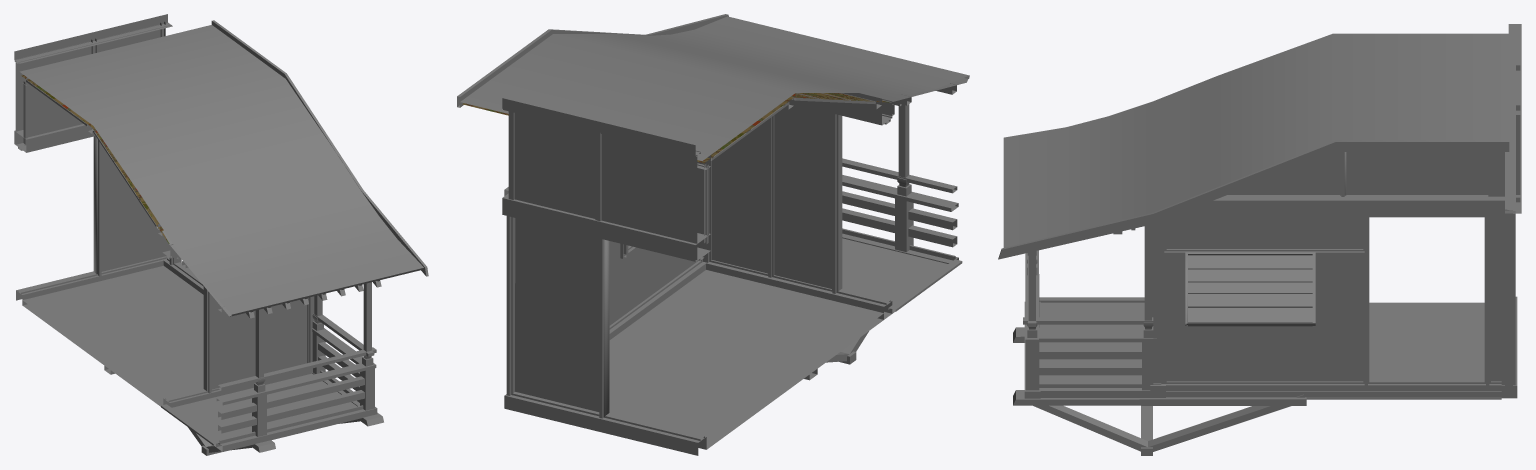
Rendered from FL4_Balcony_Corner_2.fbx.
3 renders of one model, left to right at view 1: azimuth 30°, elevation 25°; view 2: azimuth 150°, elevation 25°; view 3: azimuth 270°, elevation 25°, orthographic. The views are drawn at different scales.
Visible parts, largest first — view 1: FL4_Balcony_Corner_2; view 2: FL4_Balcony_Corner_2; view 3: FL4_Balcony_Corner_2.
Part boxes in pixels (<box>): FL4_Balcony_Corner_2: <box>14,14,428,455</box>; FL4_Balcony_Corner_2: <box>457,14,969,455</box>; FL4_Balcony_Corner_2: <box>998,24,1521,455</box>.
Bounding box in the file's own units: 356 × 477 × 644.
